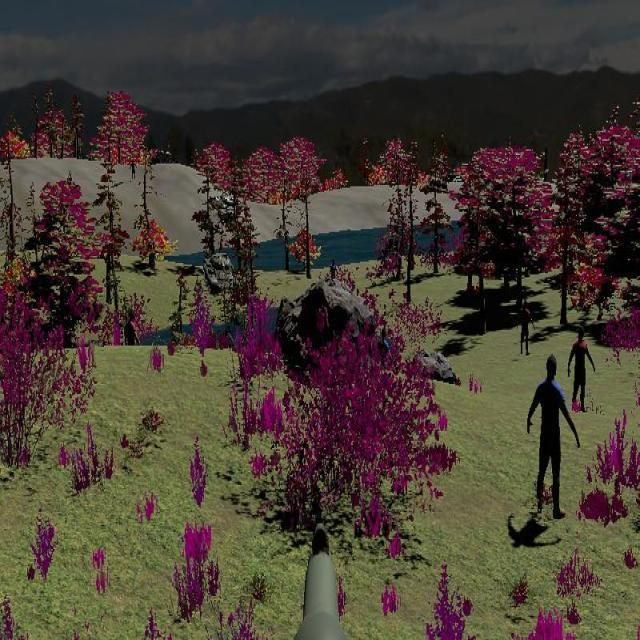Tank: (203, 252, 240, 294)
